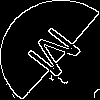M: (25, 25, 92, 86)
